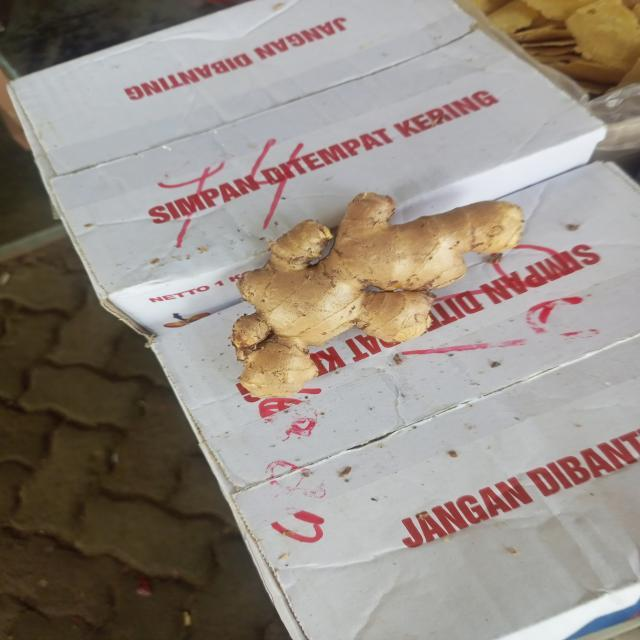ginger: (243, 198, 527, 406)
